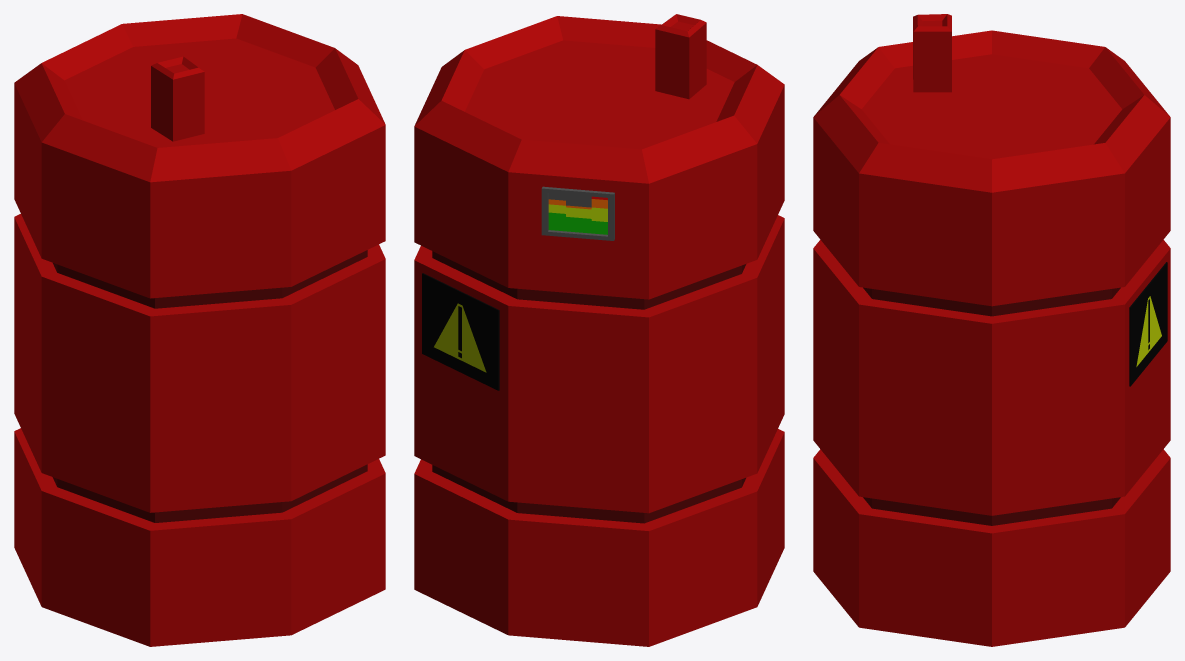
File: Barrel2.fbx
The picture shows the model from 3 angles, left to right: view 1: azimuth 30°, elevation 25°; view 2: azimuth 150°, elevation 25°; view 3: azimuth 270°, elevation 25°; orthographic projection. The views are drawn at different scales.
Visible parts, largest first — view 1: Barrel; view 2: Barrel, Panel, Electronic Panel; view 3: Barrel, Panel.
Part boxes in pixels (left/top/right/bottom): Barrel: left=14, top=14, right=385, bottom=646; Barrel: left=414, top=14, right=784, bottom=646; Panel: left=422, top=273, right=499, bottom=390; Electronic Panel: left=541, top=186, right=614, bottom=240; Barrel: left=813, top=14, right=1170, bottom=646; Panel: left=1129, top=262, right=1167, bottom=386.
Size of the model in its own units: 269 by 437 by 269.
